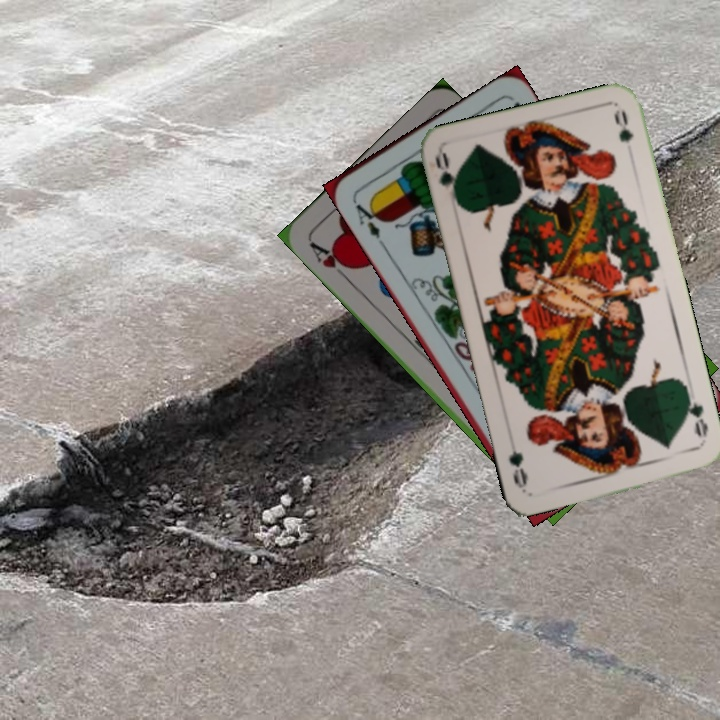EA: (349, 195, 385, 241)
GO: (430, 150, 463, 207), (682, 389, 711, 440)
HA: (305, 237, 356, 284)
